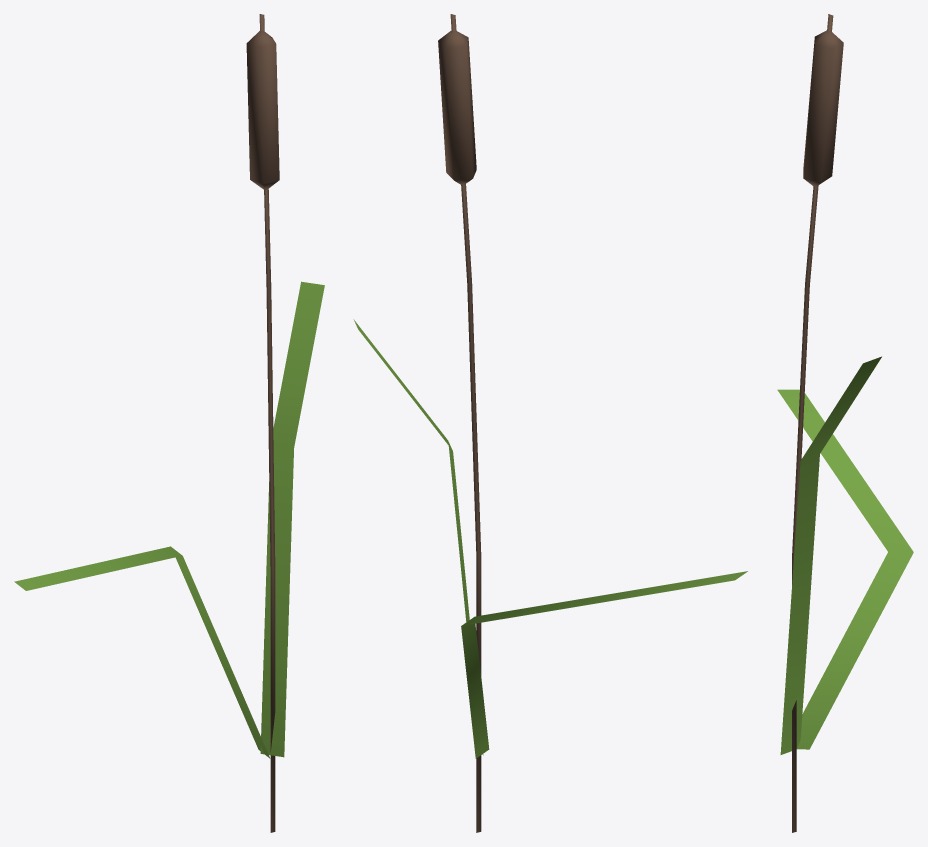
The model's file is Reed_3.fbx.
The picture shows the model from 3 angles, left to right: view 1: azimuth 30°, elevation 25°; view 2: azimuth 150°, elevation 25°; view 3: azimuth 270°, elevation 25°; orthographic projection. The views are drawn at different scales.
Visible parts, largest first — view 1: Reed 3; view 2: Reed 3; view 3: Reed 3.
Boxes of the visible parts, left/top/right/bottom form: Reed 3: left=14, top=14, right=324, bottom=832; Reed 3: left=353, top=14, right=747, bottom=832; Reed 3: left=777, top=14, right=913, bottom=832.
Size of the model in its own units: 98.72 by 222 by 33.58.
